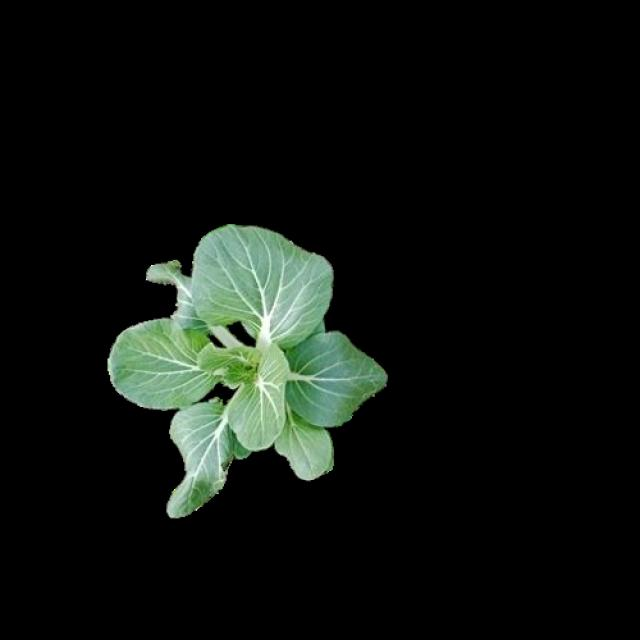healthy: (108, 220, 384, 515)
not-mature: (110, 223, 387, 517)
